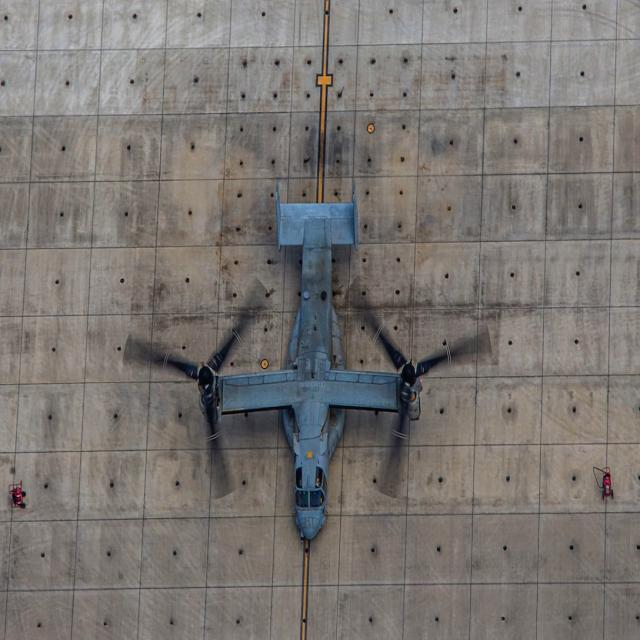MIL_Plane: (123, 176, 492, 543)
